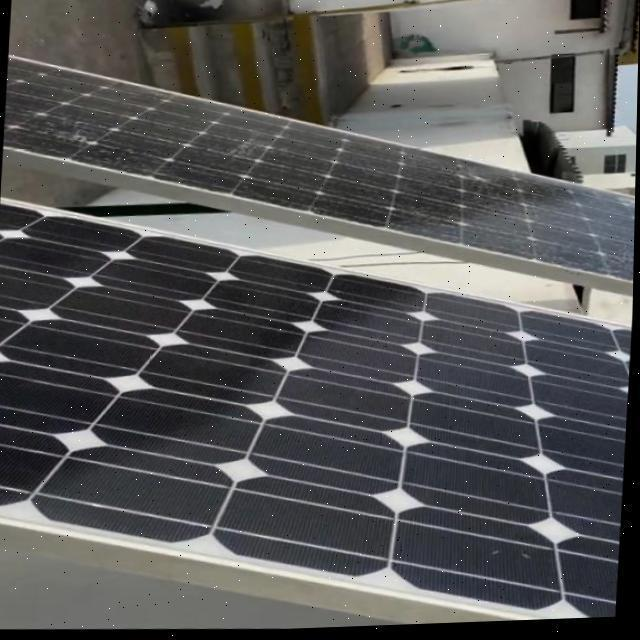Anomaly Solar Panel: (3, 53, 636, 288)
Normal Solar Panel: (0, 197, 633, 625)
Structural Damage: (56, 122, 98, 152), (468, 171, 492, 190), (618, 200, 636, 217)
